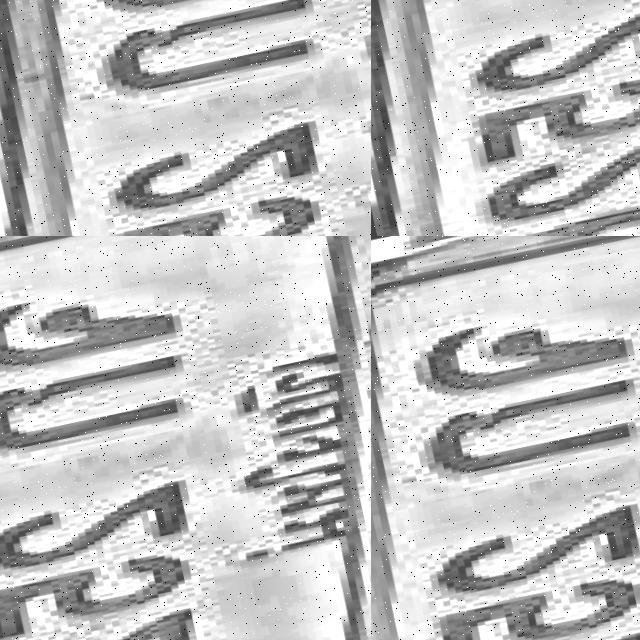license-plate: (0, 236, 371, 640), (371, 236, 640, 640), (0, 0, 371, 236)
